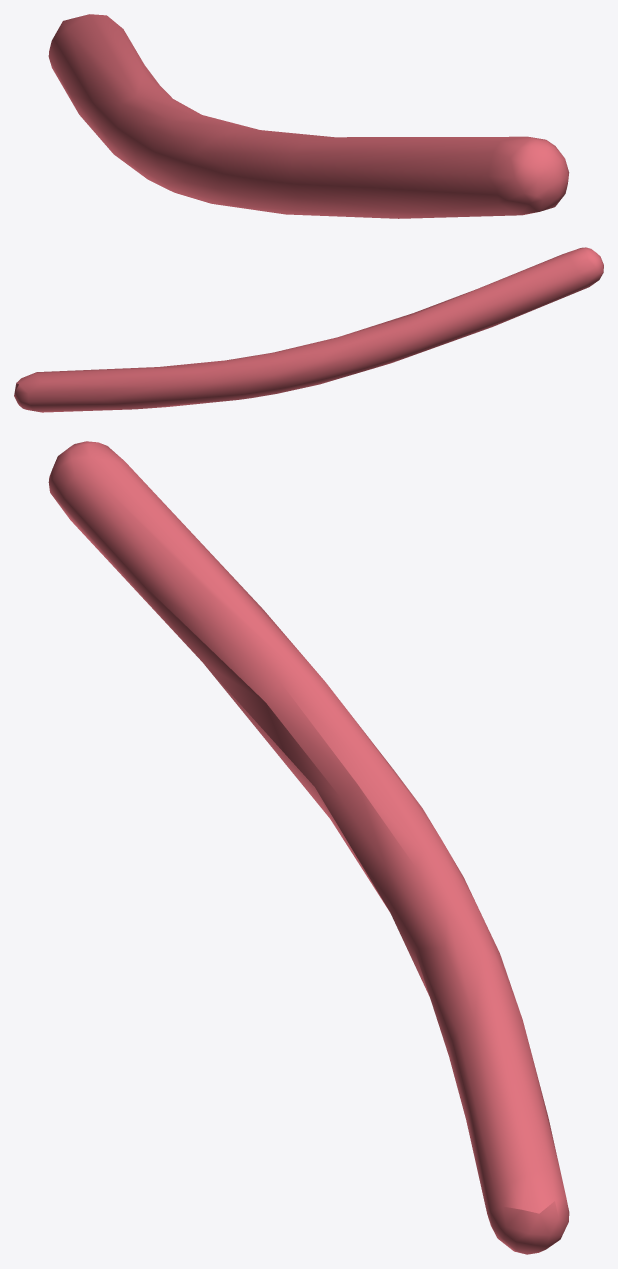
File: fma22772_fj2283.glb
The picture shows the model from 3 angles, top to bottom: view 1: azimuth 90°, elevation 25°; view 2: azimuth 150°, elevation 25°; view 3: azimuth 270°, elevation 25°; orthographic projection. The views are drawn at different scales.
Parts seen in each view (by area): view 1: FMA22772_FJ2283; view 2: FMA22772_FJ2283; view 3: FMA22772_FJ2283.
Boxes of the visible parts, x1,y1,x2,y2 form: FMA22772_FJ2283: (48, 14, 569, 218); FMA22772_FJ2283: (14, 247, 603, 412); FMA22772_FJ2283: (48, 441, 569, 1254).
Bounding box in the file's own units: 0.0197 × 0.00744 × 0.00934.
